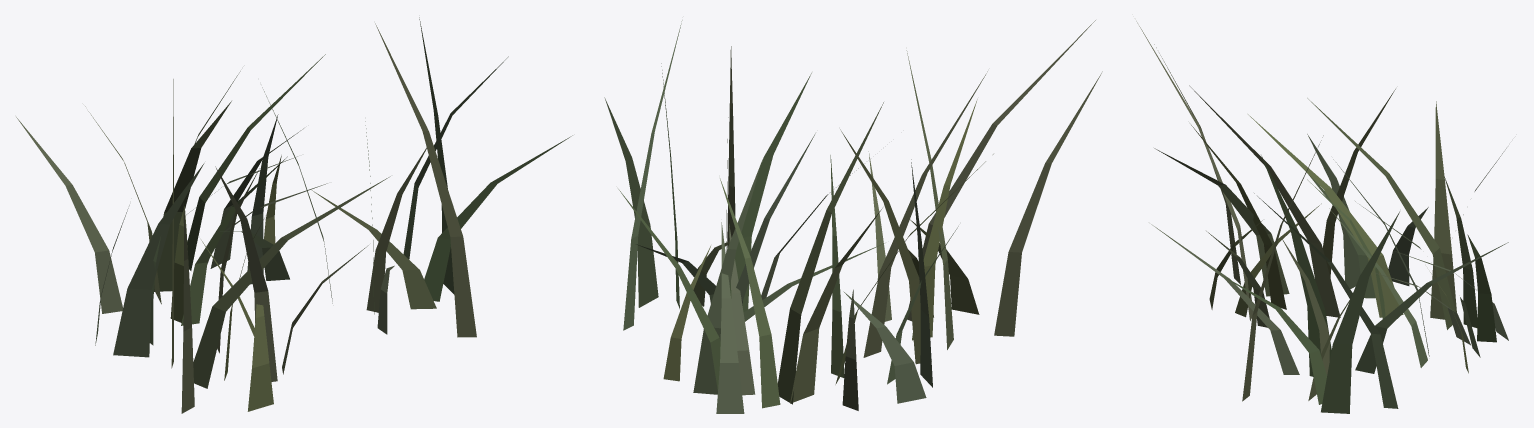
File: Grass3.glb
3 renders of one model, left to right at view 1: azimuth 30°, elevation 25°; view 2: azimuth 150°, elevation 25°; view 3: azimuth 270°, elevation 25°, orthographic. The views are drawn at different scales.
Size of the model in its own units: 0.5267 by 0.3497 by 0.4855.
